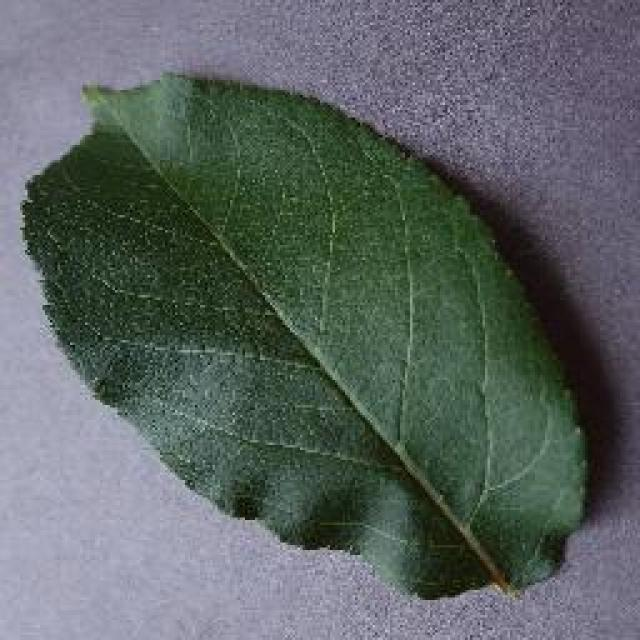apple healthy: (18, 68, 592, 600)
